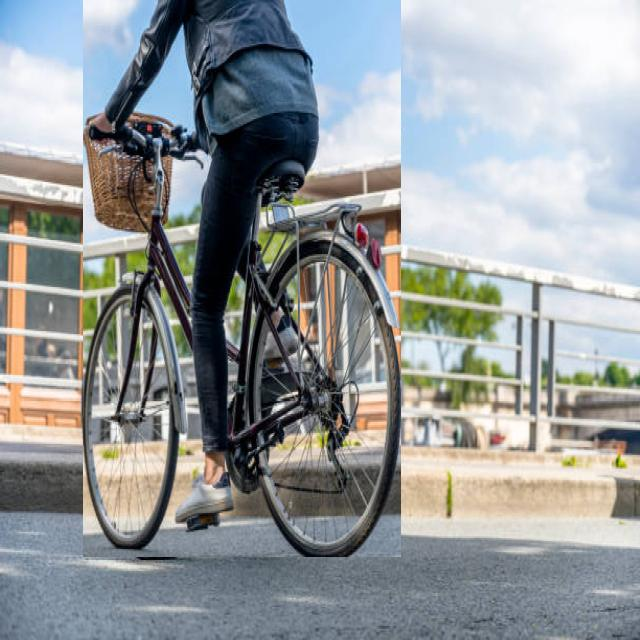bicycle: (83, 0, 400, 557)
